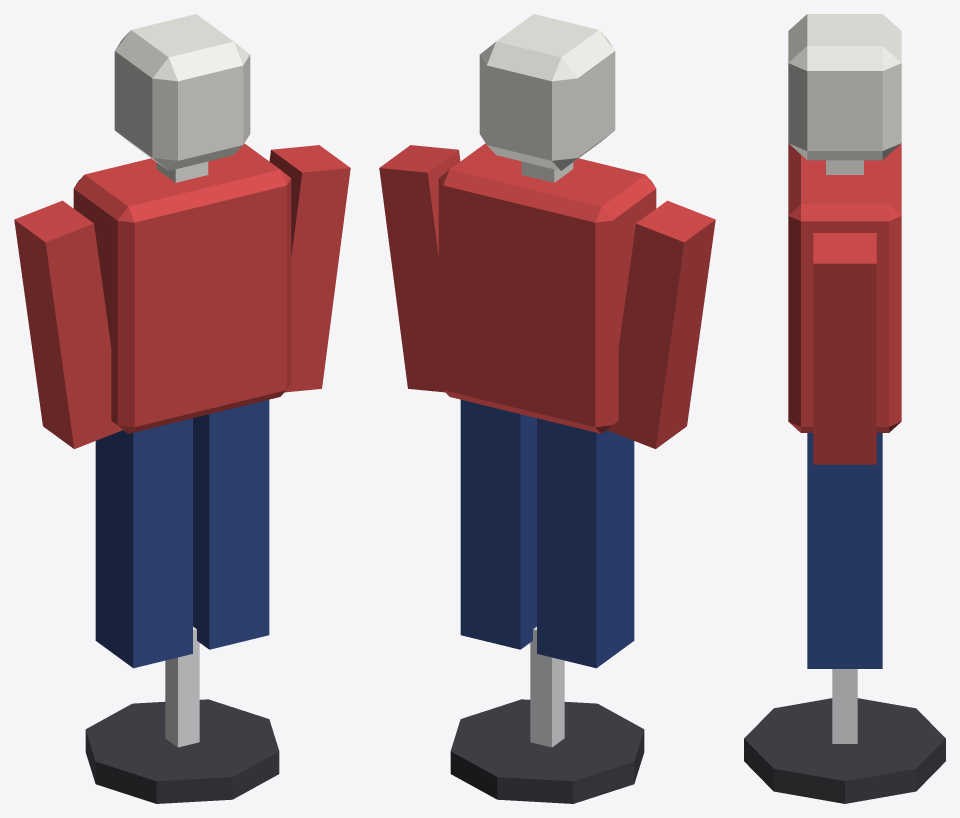
File: Mannequin.fbx
3 views of the same model, side by side, from view 1: azimuth 30°, elevation 25°; view 2: azimuth 150°, elevation 25°; view 3: azimuth 270°, elevation 25° (orthographic).
Parts seen in each view (by area): view 1: Mannequin; view 2: Mannequin; view 3: Mannequin.
Boxes of the visible parts, <box> form: Mannequin: <box>14,14,350,803</box>; Mannequin: <box>379,14,715,803</box>; Mannequin: <box>744,14,945,803</box>.
Size of the model in its own units: 2.81 by 6.4 by 1.6.
1 material, 1 textured.
